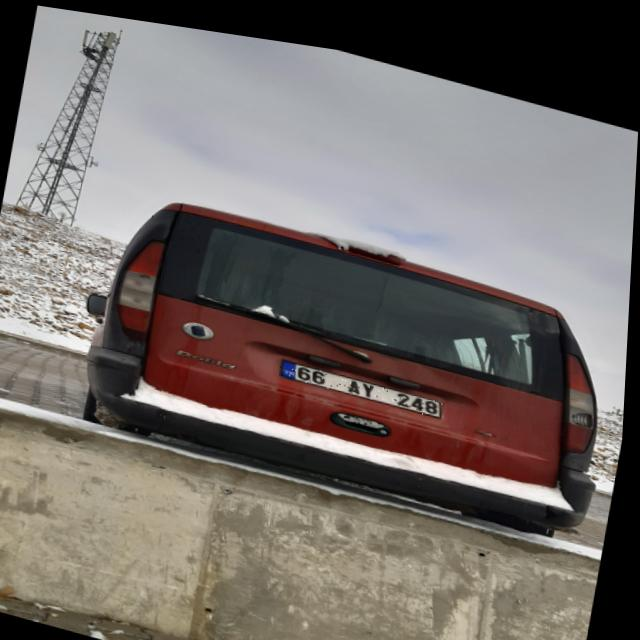license_plate: (281, 349, 449, 405)
